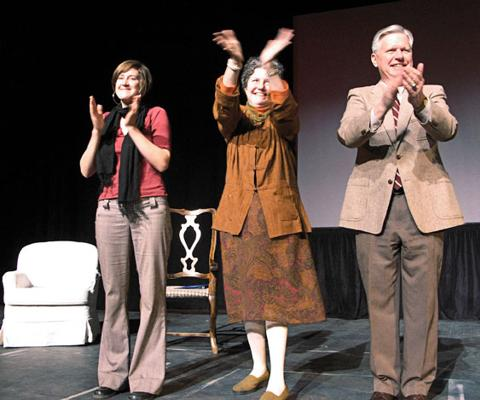person: (209, 25, 331, 400)
